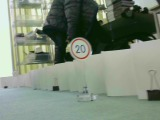speed_20: (67, 36, 94, 62)
